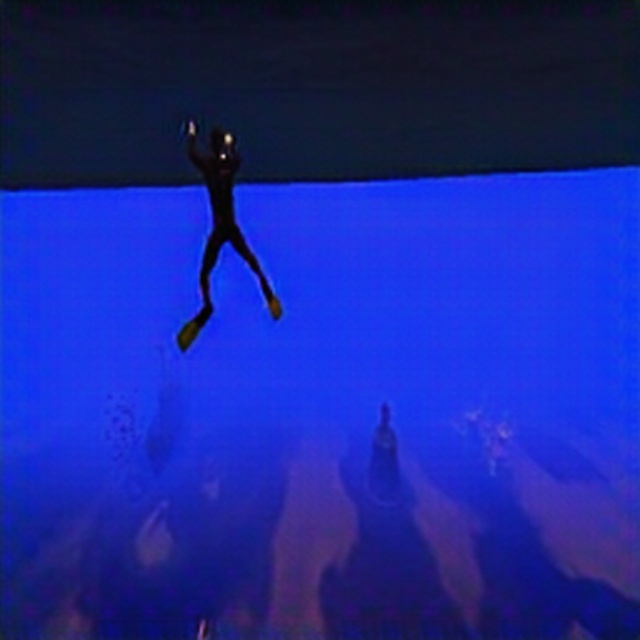diver: (185, 118, 282, 327)
